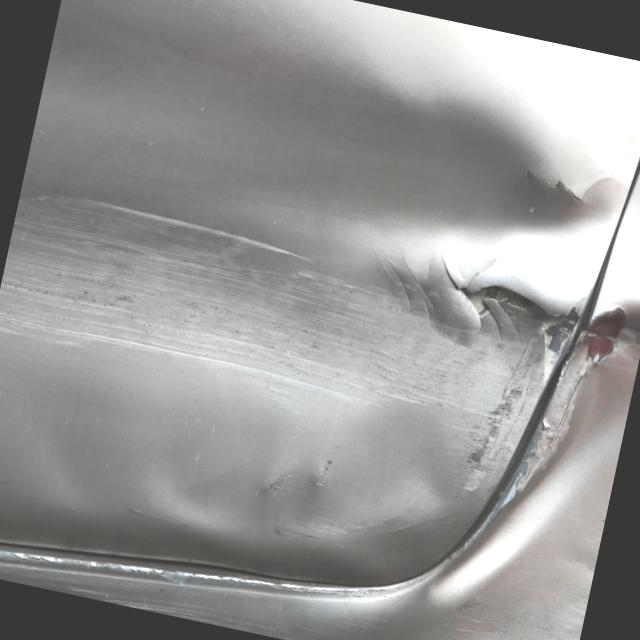Cabossage: (113, 15, 615, 275), (145, 385, 451, 572)
Dechirure: (427, 252, 586, 331), (511, 156, 612, 227)
Rayure: (0, 179, 587, 507), (35, 572, 340, 640)
